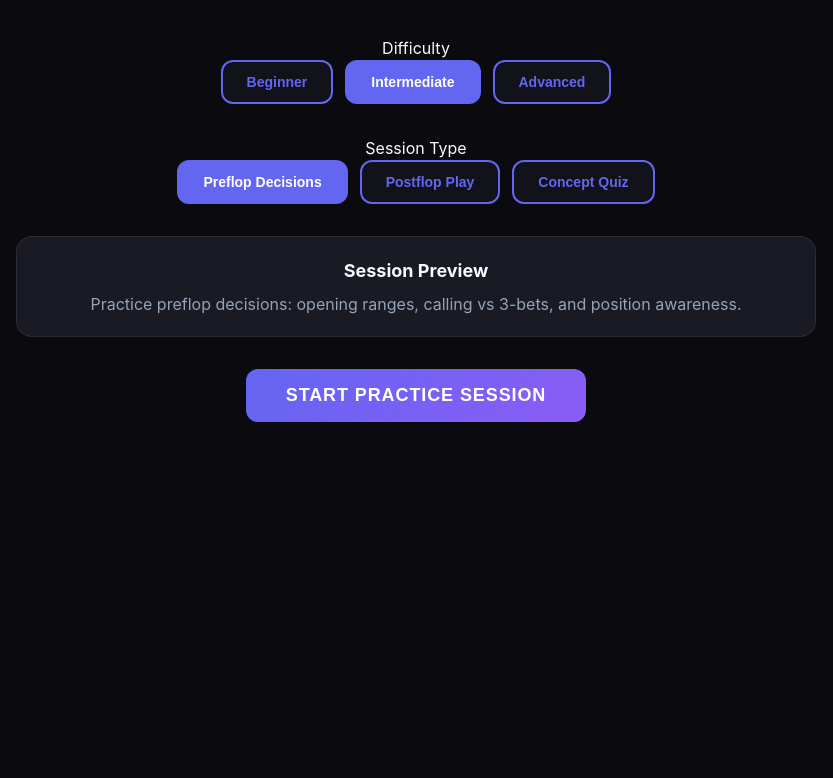
Test: PracticeSession › Active Session — Preflop Scenario › should show result after submission
The width and height of the screenshot is (833, 778).
Click the button "Start Practice Session".
click(416, 396)  # box [246,369,586,422]
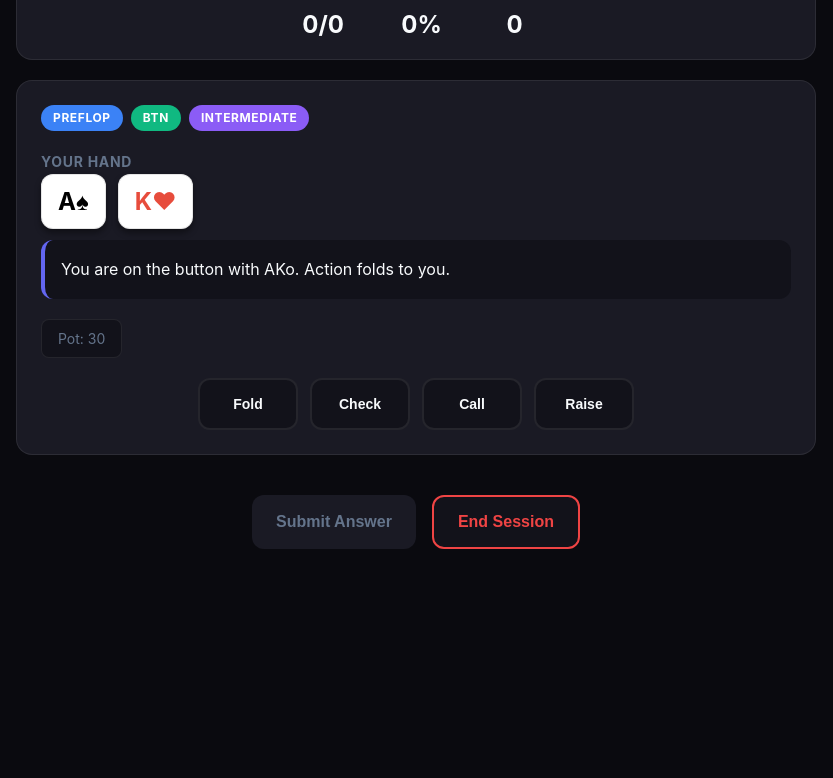
Click the button "Raise".
click(584, 404)  # box [534,378,634,430]
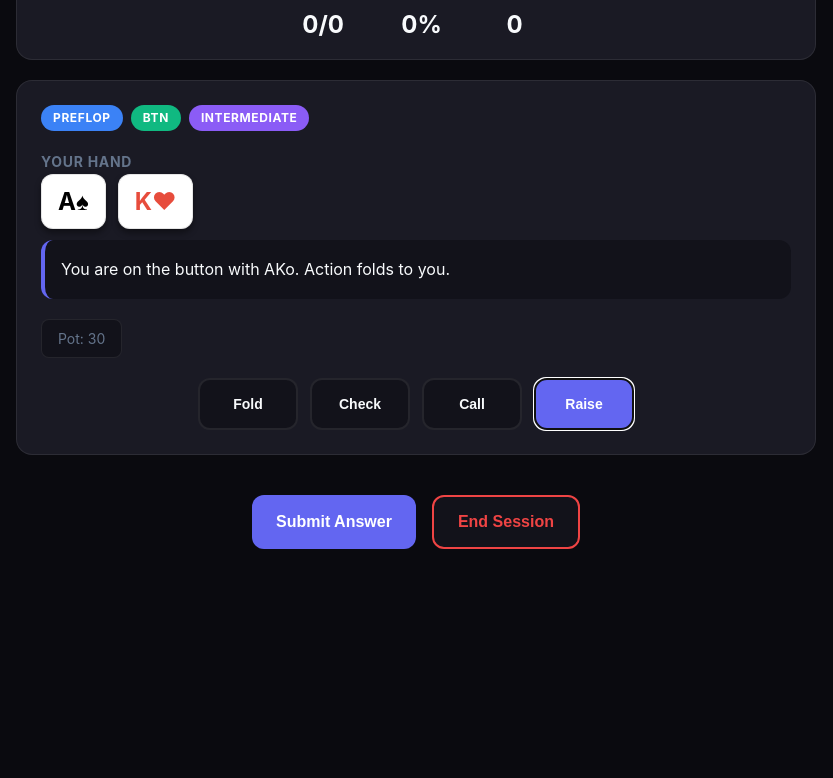
Click the button "Submit Answer".
click(334, 522)  # box [252,495,416,549]
(page scrolled)
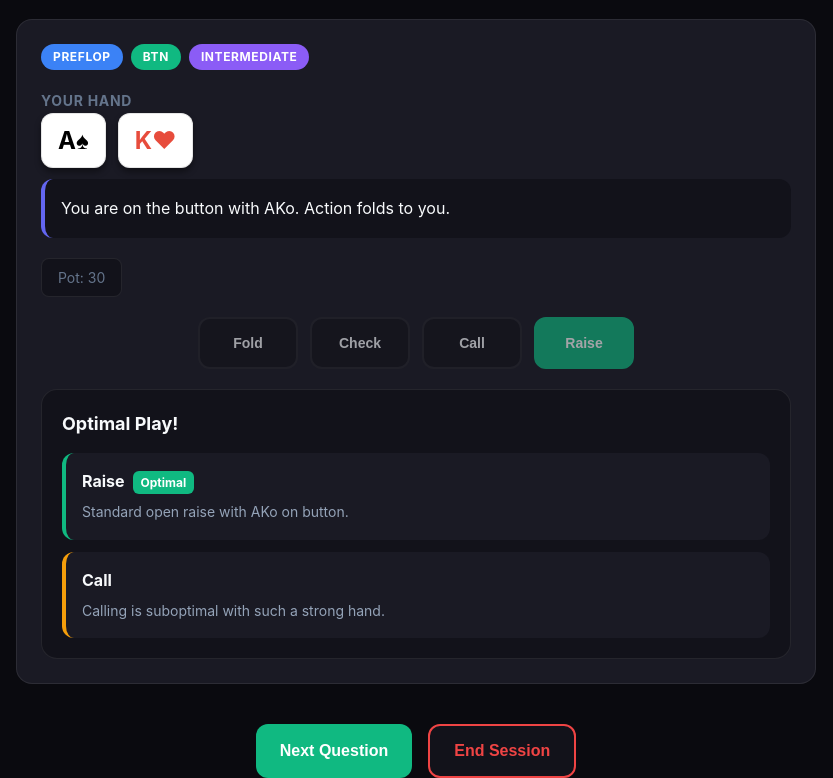
expect the heading "Optimal Play!" is shown: met, box [62,413,178,434]
expect the button "Next Question" is shown: met, box [256,724,412,777]
